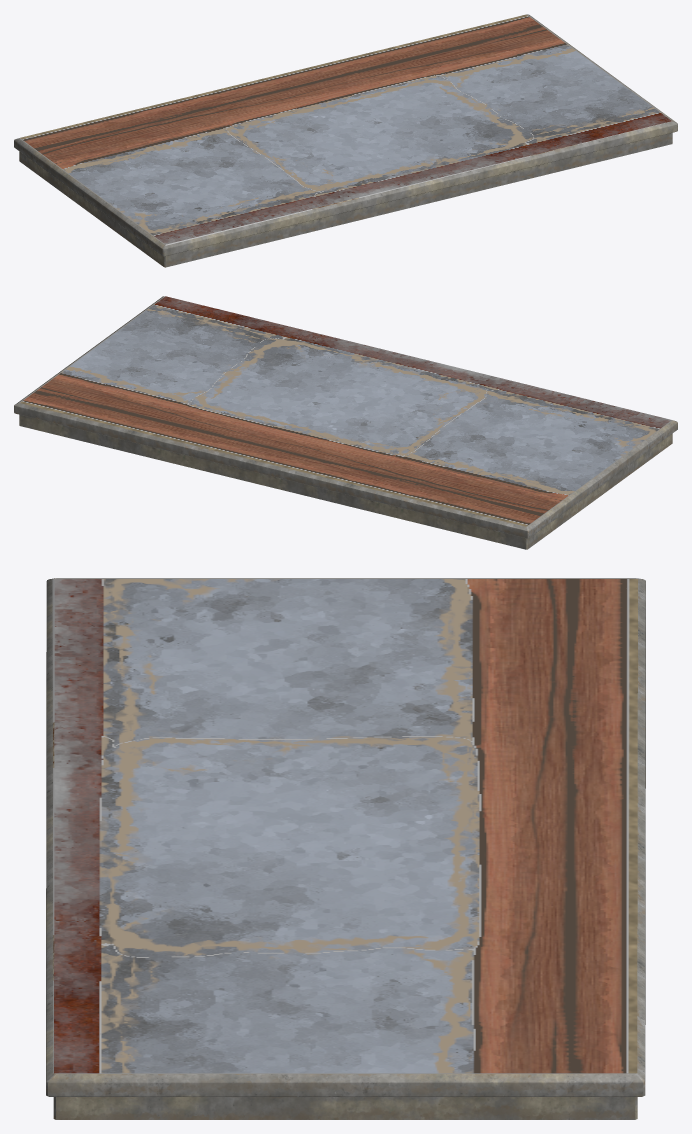
The model's file is Tall_b_roof.fbx.
The picture shows the model from 3 angles, top to bottom: view 1: azimuth 30°, elevation 25°; view 2: azimuth 150°, elevation 25°; view 3: azimuth 270°, elevation 25°; orthographic projection. The views are drawn at different scales.
Visible parts, largest first — view 1: Object018; view 2: Object018; view 3: Object018.
Boxes of the visible parts, x1,y1,x2,y2 form: Object018: (14, 14, 677, 267); Object018: (14, 296, 677, 549); Object018: (46, 578, 645, 1119).
Bounding box in the file's own units: 2322 × 98.58 × 1172.
